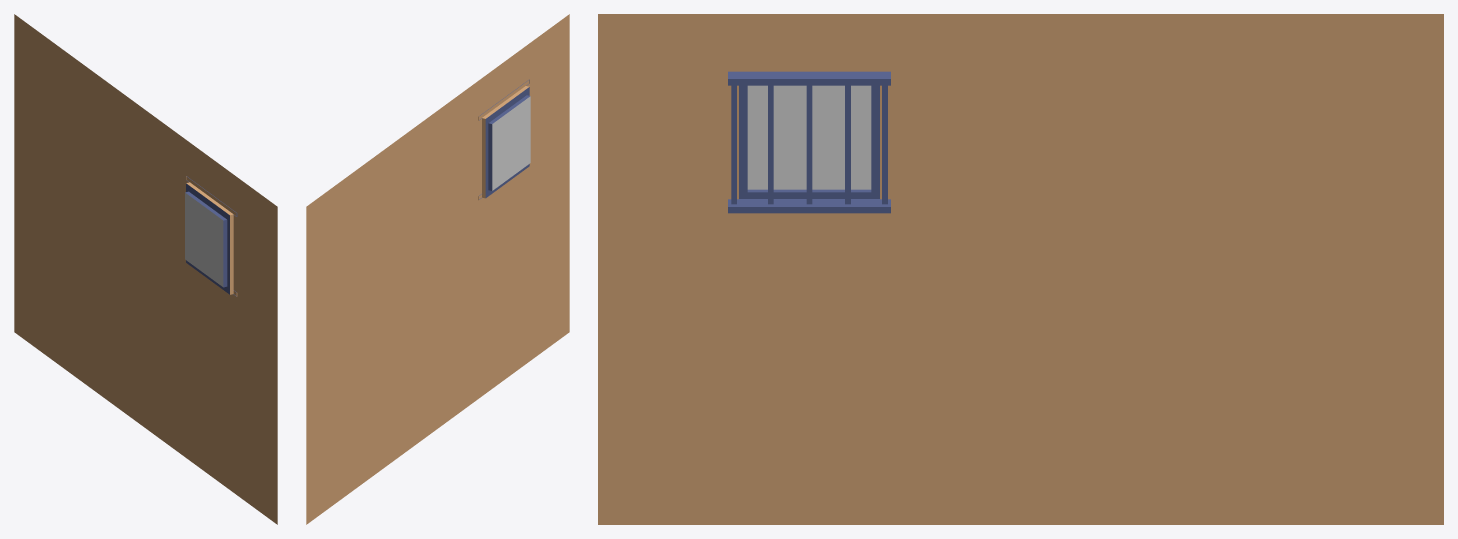
The model's file is sm_janela_04.fbx.
The picture shows the model from 3 angles, left to right: view 1: azimuth 30°, elevation 25°; view 2: azimuth 150°, elevation 25°; view 3: azimuth 270°, elevation 25°; orthographic projection. The views are drawn at different scales.
Parts seen in each view (by area): view 1: sm_janela_04; view 2: sm_janela_04; view 3: sm_janela_04.
Boxes of the visible parts, <box> form: sm_janela_04: <box>14,14,277,524</box>; sm_janela_04: <box>306,14,569,524</box>; sm_janela_04: <box>598,14,1443,524</box>.
Bounding box in the file's own units: 0.2247 × 4 × 6.
